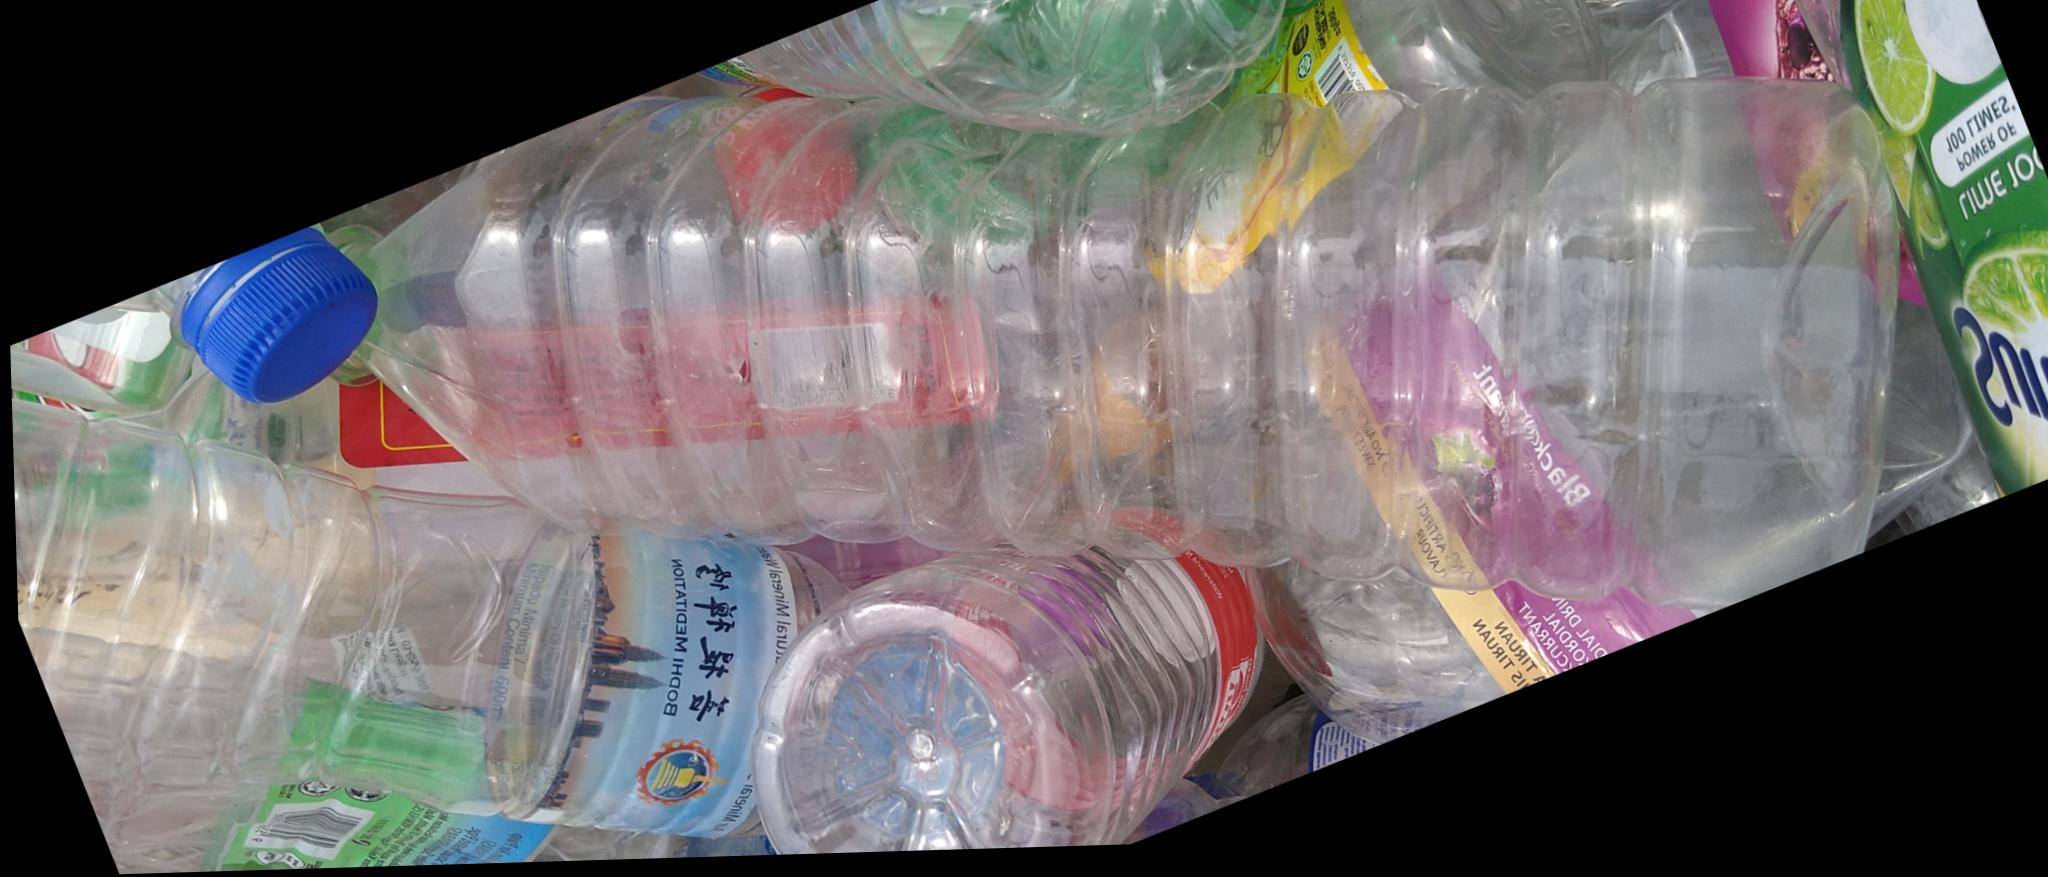plastic: (13, 156, 923, 867), (336, 27, 1109, 545), (755, 0, 1399, 274), (751, 538, 1317, 848)
